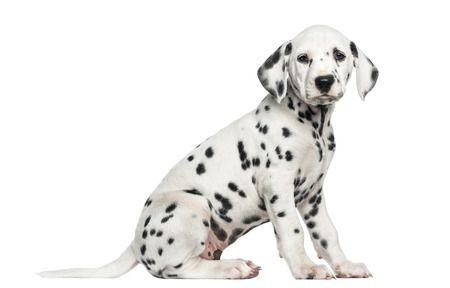puppy-dog: (27, 20, 383, 284)
